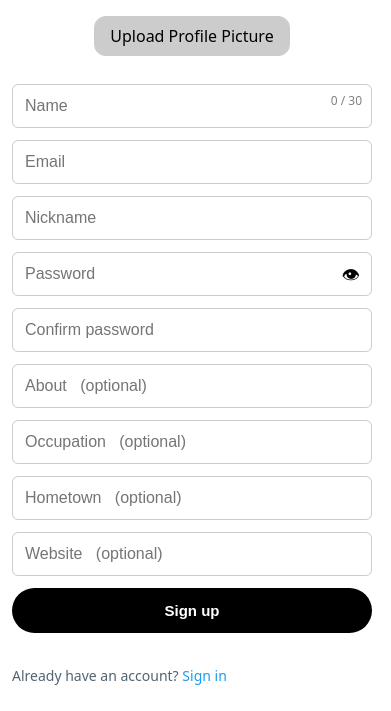
Test: RegisterForm › shows error if password missmatch
Type "hamoudi" into the field with placeholder "Name".
click(192, 106); type("hamoudi")  # box [12,84,372,128]
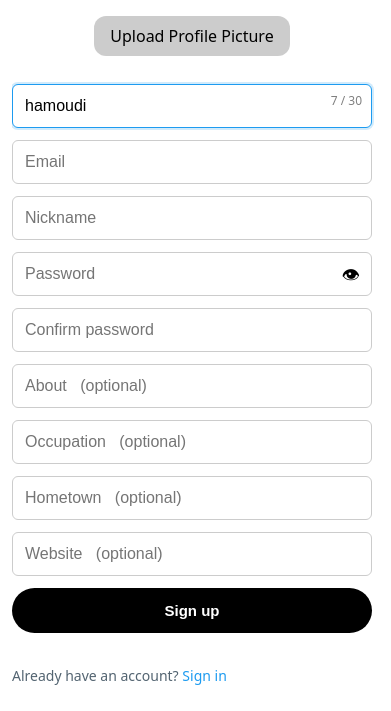
Type "test@test.com" into the field with placeholder "Email".
click(192, 162); type("test@test.com")  # box [12,140,372,184]
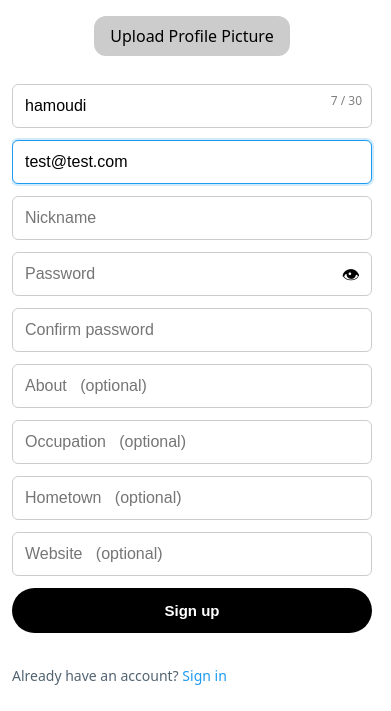
Type "hamo" into the field with placeholder "Nickname".
click(192, 218); type("hamo")  # box [12,196,372,240]
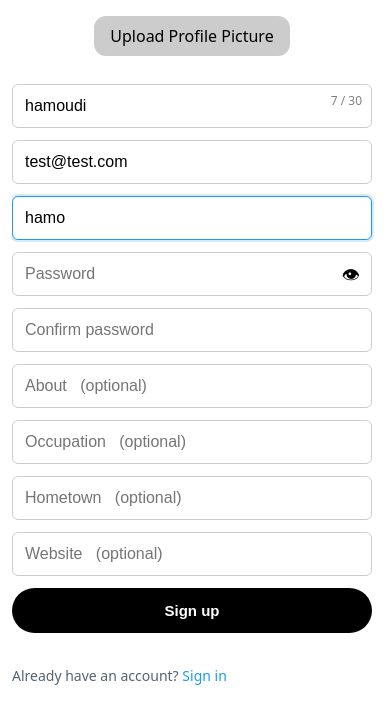
Type "999" into the password field with placeholder "Password".
click(192, 274); type("999")  # box [12,252,372,296]
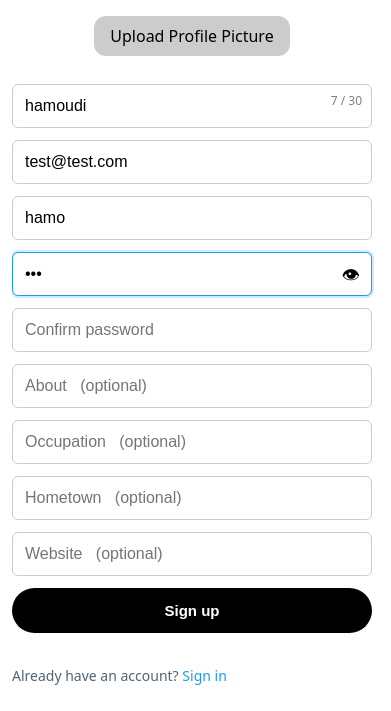
Type "000" into the password field with placeholder "Confirm password".
click(192, 330); type("000")  # box [12,308,372,352]
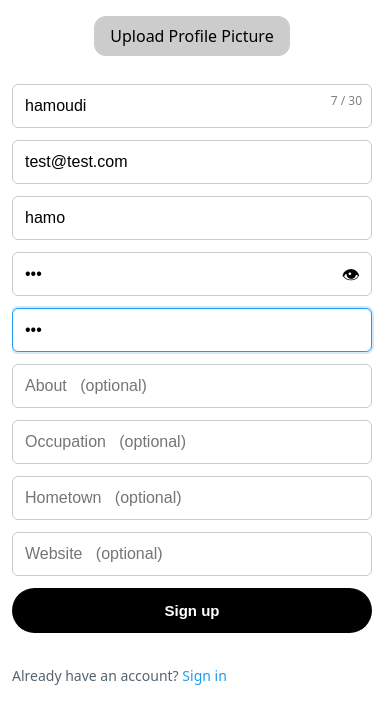
Click the button "Sign up".
click(192, 610)  # box [12,588,372,633]
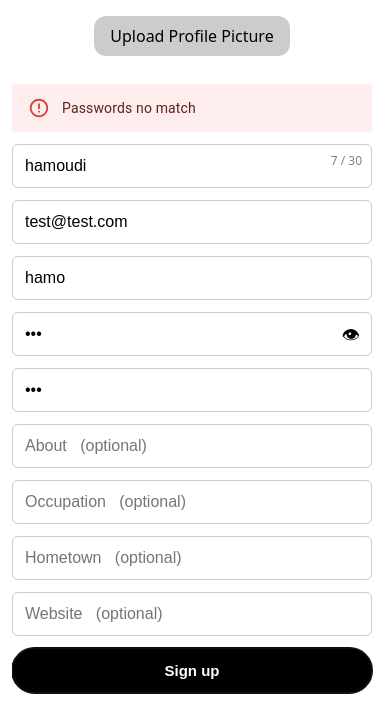
Check: the text "Passwords no match" is shown, box [62,100,196,116]
